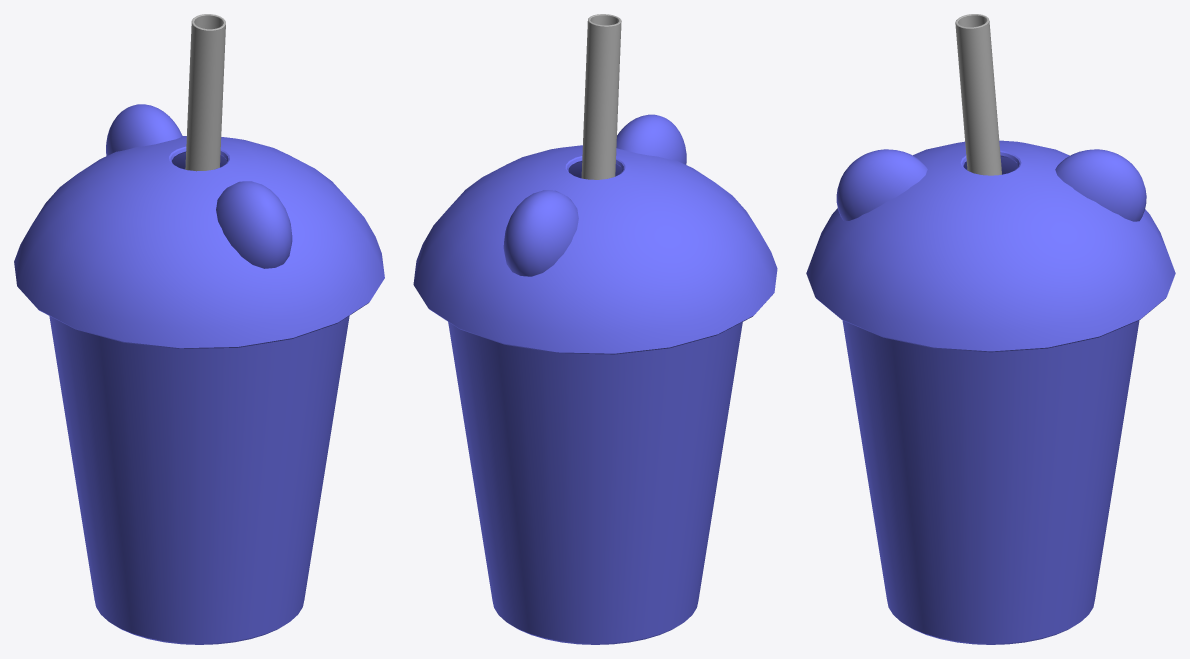
Rendered from boba.fbx.
3 renders of one model, left to right at view 1: azimuth 30°, elevation 25°; view 2: azimuth 150°, elevation 25°; view 3: azimuth 270°, elevation 25°, orthographic.
Visible parts, largest first — view 1: gobelet, couvercle, paille; view 2: gobelet, couvercle, paille; view 3: gobelet, couvercle, paille.
Part boxes in pixels (x1=…): gobelet: x1=49, y1=316, x2=349, y2=644; couvercle: x1=14, y1=104, x2=384, y2=348; paille: x1=185, y1=14, x2=225, y2=171; gobelet: x1=448, y1=322, x2=742, y2=644; couvercle: x1=413, y1=114, x2=777, y2=354; paille: x1=581, y1=14, x2=621, y2=179; gobelet: x1=842, y1=320, x2=1139, y2=644; couvercle: x1=806, y1=140, x2=1175, y2=352; paille: x1=955, y1=14, x2=1001, y2=175.
Size of the model in its own units: 49.92 by 86.84 by 49.92.
